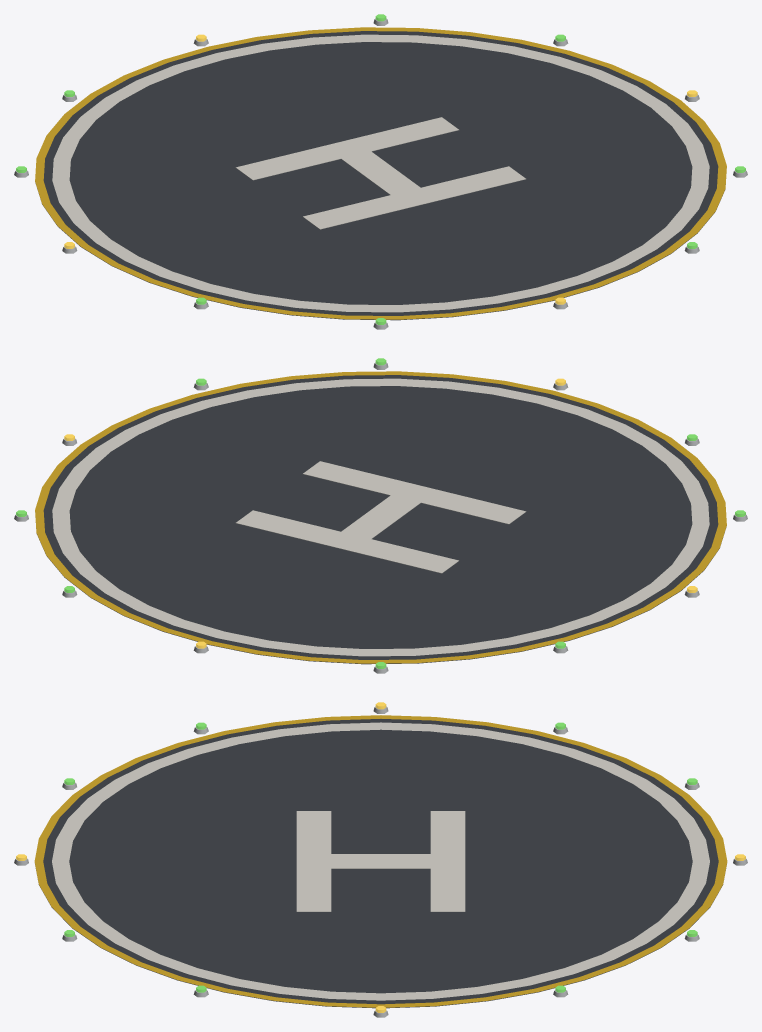
Rendered from helipad.glb.
3 renders of one model, top to bottom at view 1: azimuth 30°, elevation 25°; view 2: azimuth 150°, elevation 25°; view 3: azimuth 270°, elevation 25°, orthographic.
Visible parts, largest first — view 1: helipad:trim, helipad:lights; view 2: helipad:trim, helipad:lights; view 3: helipad:trim, helipad:lights.
Boxes of the visible parts, left/top/right/bottom form: helipad:trim: left=14, top=18, right=747, bottom=329; helipad:lights: left=16, top=14, right=745, bottom=324; helipad:trim: left=14, top=362, right=747, bottom=673; helipad:lights: left=16, top=358, right=745, bottom=668; helipad:trim: left=14, top=706, right=747, bottom=1017; helipad:lights: left=16, top=702, right=745, bottom=1012.
Size of the model in its own units: 6.76 by 0.07 by 6.78.
